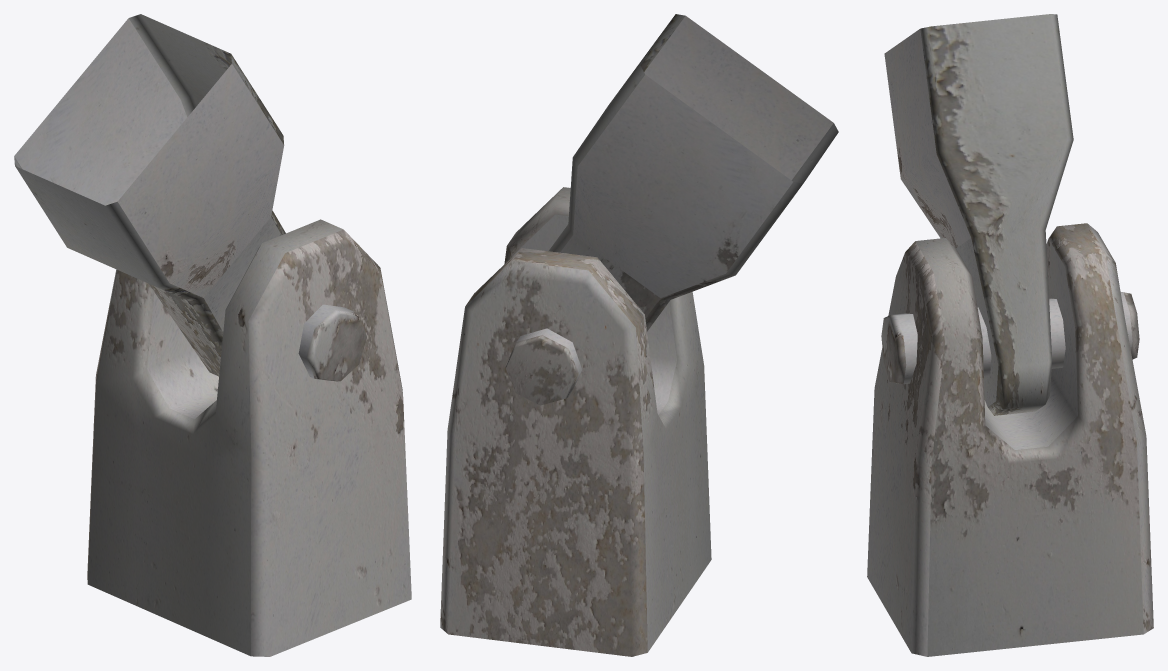
3 views of the same model, side by side, from view 1: azimuth 30°, elevation 25°; view 2: azimuth 150°, elevation 25°; view 3: azimuth 270°, elevation 25° (orthographic). The views are drawn at different scales.
Visible parts, largest first — view 1: 6.011; view 2: 6.011; view 3: 6.011.
Part boxes in pixels (x1,y1,x2,y2): 6.011: (14, 14, 411, 656); 6.011: (440, 14, 838, 656); 6.011: (867, 14, 1153, 656).
Bounding box in the file's own units: 122 × 192 × 90.93.
